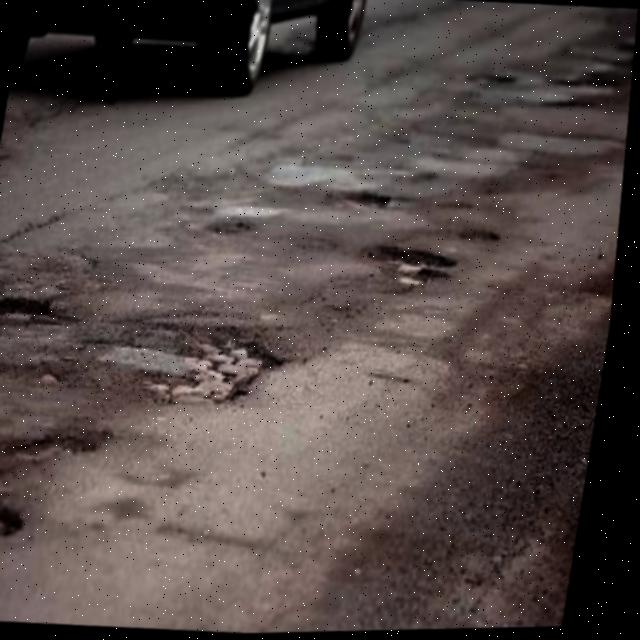Pothole: (145, 325, 294, 418), (359, 239, 463, 300), (0, 477, 43, 554), (0, 285, 65, 325), (341, 187, 397, 210)
